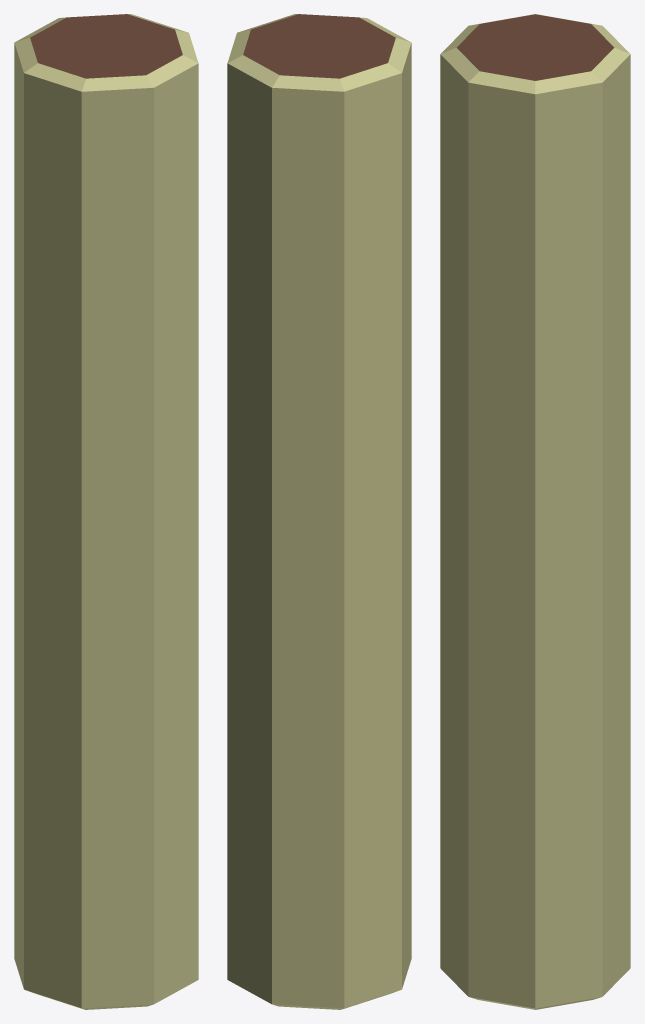
Rendered from LogHalfCayGoi.fbx.
3 views of the same model, side by side, from view 1: azimuth 30°, elevation 25°; view 2: azimuth 150°, elevation 25°; view 3: azimuth 270°, elevation 25° (orthographic).
Parts seen in each view (by area): view 1: Cylinder; view 2: Cylinder; view 3: Cylinder.
Part boxes in pixels (x1,y1,x2,y2): Cylinder: (14, 14, 198, 1009); Cylinder: (227, 14, 411, 1009); Cylinder: (440, 14, 630, 1009).
Bounding box in the file's own units: 216 × 1161 × 216.
